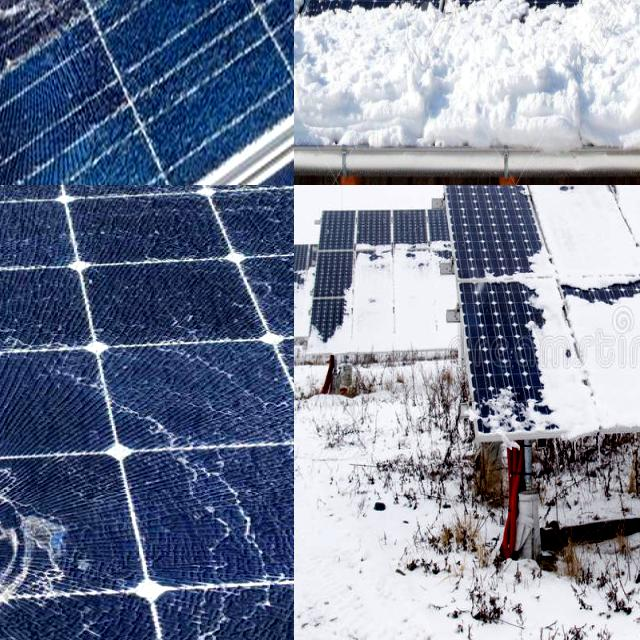hotspot: (0, 456, 132, 634), (0, 0, 97, 81), (105, 185, 246, 221)
panel: (499, 185, 640, 294), (480, 305, 580, 444), (294, 0, 388, 84), (338, 234, 471, 290), (496, 0, 640, 49), (505, 0, 588, 72), (563, 268, 640, 344), (345, 0, 443, 59), (362, 0, 472, 52), (410, 0, 489, 64), (294, 0, 361, 67), (454, 0, 516, 56), (294, 0, 331, 89), (348, 0, 403, 59), (294, 0, 352, 55), (308, 298, 362, 357), (597, 0, 640, 64), (294, 0, 340, 58), (589, 0, 640, 47), (294, 249, 319, 339), (294, 0, 344, 23), (294, 0, 351, 20), (294, 0, 329, 23), (294, 0, 306, 52)
